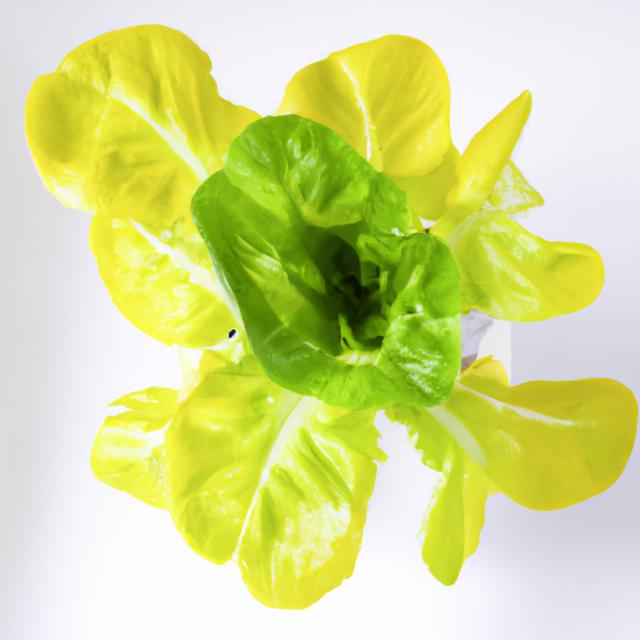-N: (16, 0, 640, 624)
